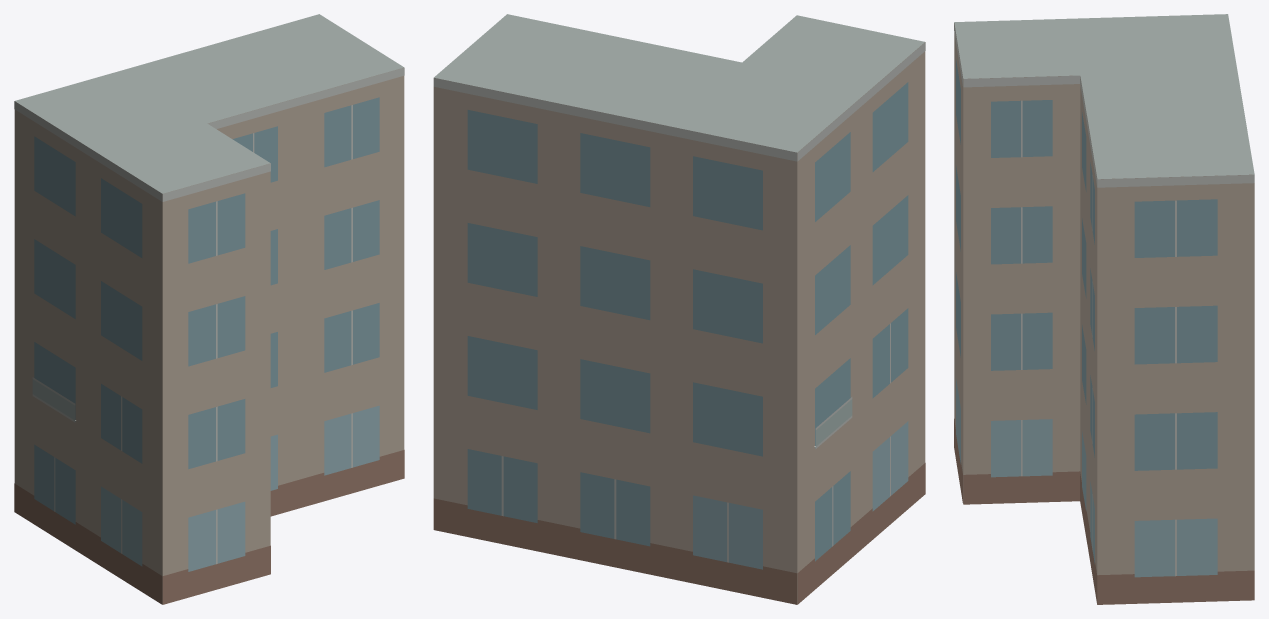
File: residential-0d5362fc-2440-4cfb-99b7-0d711d28a332.glb
3 renders of one model, left to right at view 1: azimuth 30°, elevation 25°; view 2: azimuth 150°, elevation 25°; view 3: azimuth 270°, elevation 25°, orthographic. The views are drawn at different scales.
Visible parts, largest first — view 1: residential-0d5362fc-2440-4cfb-99b7-0d711d28a332.tmp; view 2: residential-0d5362fc-2440-4cfb-99b7-0d711d28a332.tmp; view 3: residential-0d5362fc-2440-4cfb-99b7-0d711d28a332.tmp.
Part boxes in pixels (left/top/right/bottom): residential-0d5362fc-2440-4cfb-99b7-0d711d28a332.tmp: left=14, top=14, right=404, bottom=604; residential-0d5362fc-2440-4cfb-99b7-0d711d28a332.tmp: left=433, top=14, right=925, bottom=604; residential-0d5362fc-2440-4cfb-99b7-0d711d28a332.tmp: left=954, top=14, right=1254, bottom=604.
Bounding box in the file's own units: 10.16 × 12.2 × 7.82.
